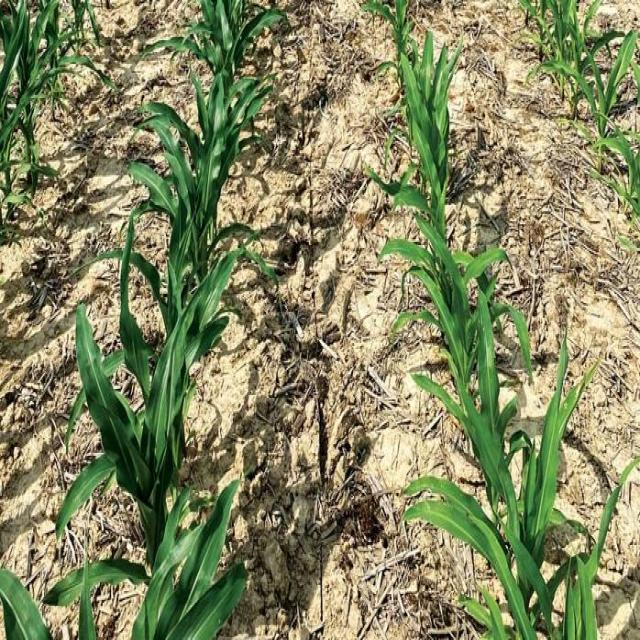row: (200, 0, 493, 639), (419, 0, 640, 640), (0, 0, 202, 640), (580, 0, 640, 111)
